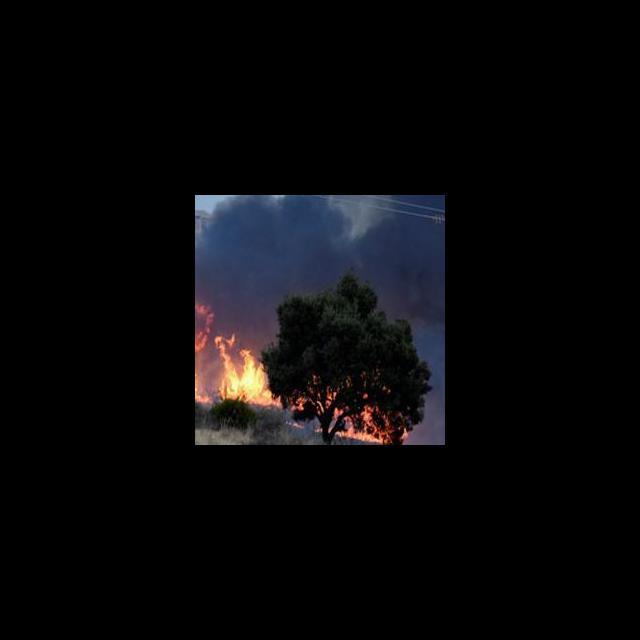Fire: (195, 297, 273, 413), (287, 379, 407, 444)
Smoke: (195, 197, 444, 293)
